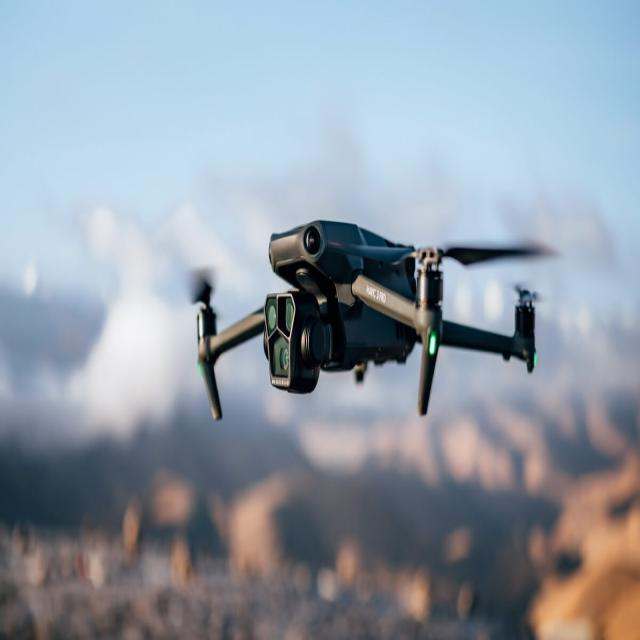UAV - Drone: (161, 189, 586, 498)
